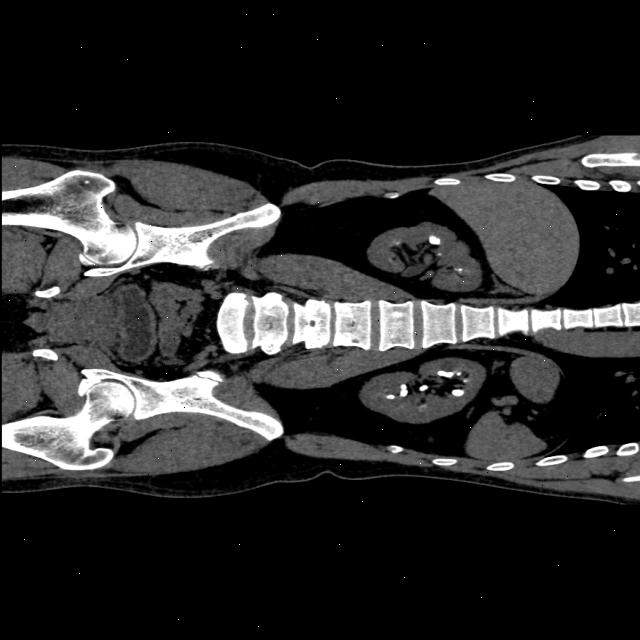kidneystone: (436, 370, 461, 378), (398, 384, 407, 398), (427, 235, 439, 245), (451, 389, 464, 396), (418, 385, 427, 392)
